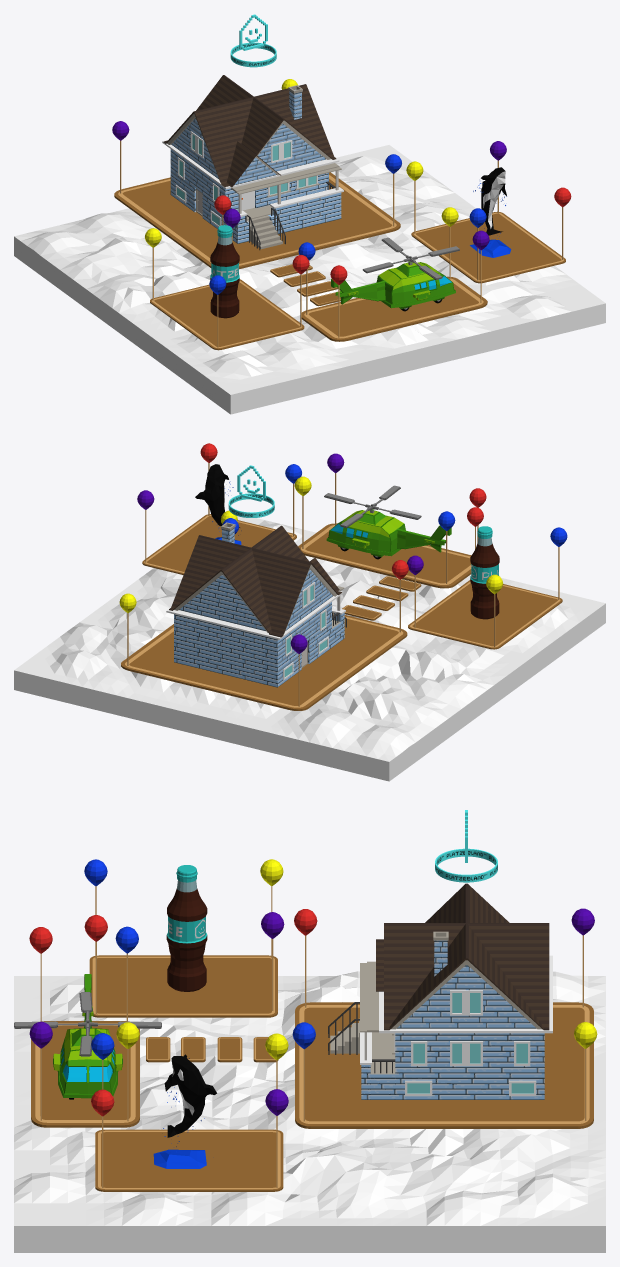
3 renders of one model, top to bottom at view 1: azimuth 30°, elevation 25°; view 2: azimuth 150°, elevation 25°; view 3: azimuth 270°, elevation 25°, orthographic. The views are drawn at different scales.
Visible parts, largest first — view 1: Cube.013, Cube.547, VEHICLES_HELICOPTER, OBJRANDOM_PLATZEECOLA, ANIMAL_ORCA, TYPE_PREMIUM; view 2: Cube.013, Cube.547, VEHICLES_HELICOPTER, OBJRANDOM_PLATZEECOLA, ANIMAL_ORCA, TYPE_PREMIUM; view 3: Cube.013, Cube.547, VEHICLES_HELICOPTER, OBJRANDOM_PLATZEECOLA, ANIMAL_ORCA, TYPE_PREMIUM.
Part boxes in pixels (bbox=[...]): Cube.013: bbox=[14, 79, 605, 414]; Cube.547: bbox=[162, 75, 343, 250]; VEHICLES_HELICOPTER: bbox=[331, 237, 459, 311]; OBJRANDOM_PLATZEECOLA: bbox=[210, 225, 239, 318]; ANIMAL_ORCA: bbox=[470, 167, 511, 257]; TYPE_PREMIUM: bbox=[230, 14, 276, 67]; Cube.013: bbox=[14, 443, 605, 781]; Cube.547: bbox=[166, 522, 346, 687]; VEHICLES_HELICOPTER: bbox=[324, 485, 451, 559]; OBJRANDOM_PLATZEECOLA: bbox=[470, 526, 499, 619]; ANIMAL_ORCA: bbox=[195, 464, 241, 544]; TYPE_PREMIUM: bbox=[228, 465, 274, 517]; Cube.013: bbox=[14, 859, 605, 1252]; Cube.547: bbox=[328, 883, 552, 1099]; VEHICLES_HELICOPTER: bbox=[14, 974, 161, 1099]; OBJRANDOM_PLATZEECOLA: bbox=[166, 865, 207, 991]; ANIMAL_ORCA: bbox=[153, 1054, 216, 1168]; TYPE_PREMIUM: bbox=[435, 810, 497, 882].
Bounding box in the file's own units: 4000 × 2443 × 4001.
Materials: 35 (3 with a texture image).
